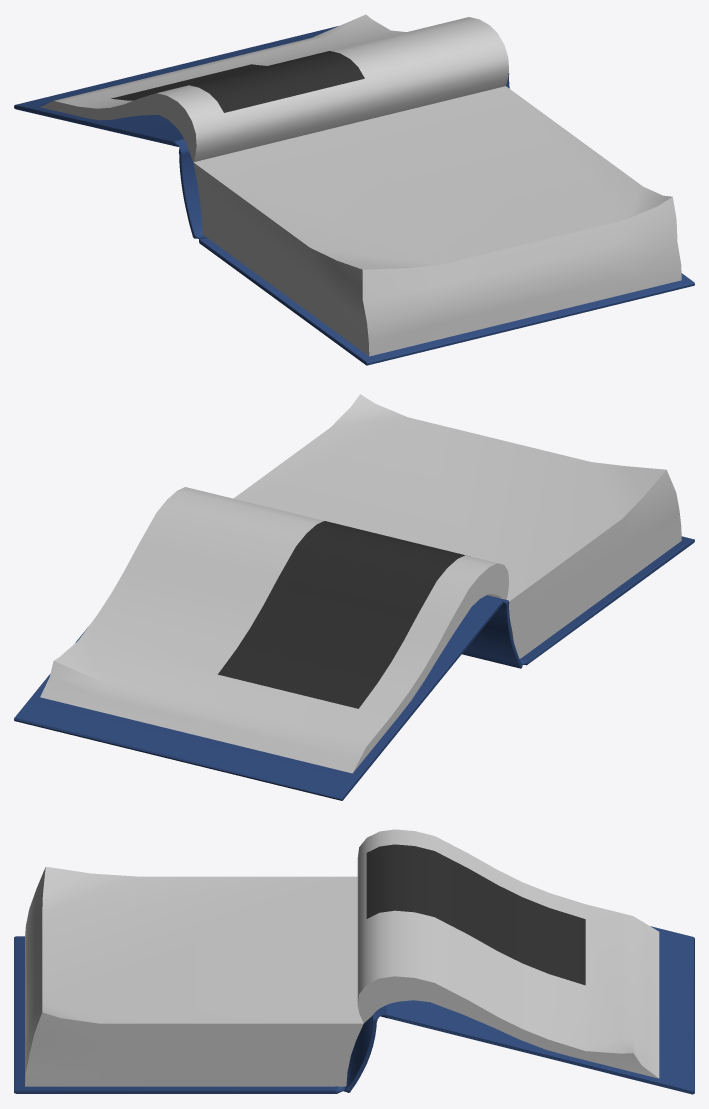
Rendered from DescriptiveBook.fbx.
3 renders of one model, top to bottom at view 1: azimuth 30°, elevation 25°; view 2: azimuth 150°, elevation 25°; view 3: azimuth 270°, elevation 25°, orthographic. The views are drawn at different scales.
Visible parts, largest first — view 1: DescriptiveBook; view 2: DescriptiveBook; view 3: DescriptiveBook.
Boxes of the visible parts, box(x1,y1,x2,y2) form: DescriptiveBook: box(14, 14, 694, 365); DescriptiveBook: box(14, 394, 694, 800); DescriptiveBook: box(14, 829, 694, 1094).
Size of what is drawn, in the model's own units: 21.05 by 7.29 by 39.18.
